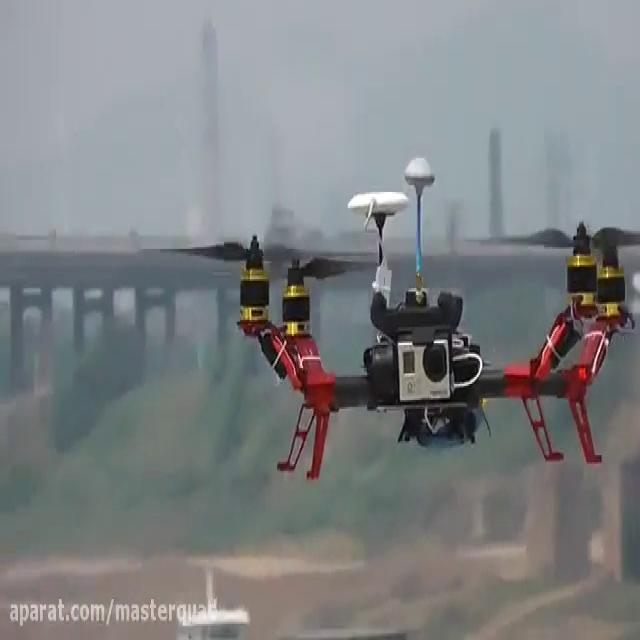drone: (139, 151, 638, 482)
